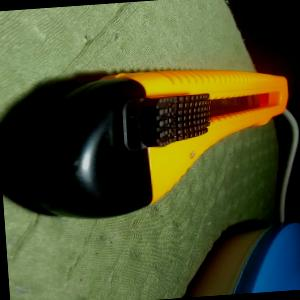estilete: (15, 60, 296, 223)
